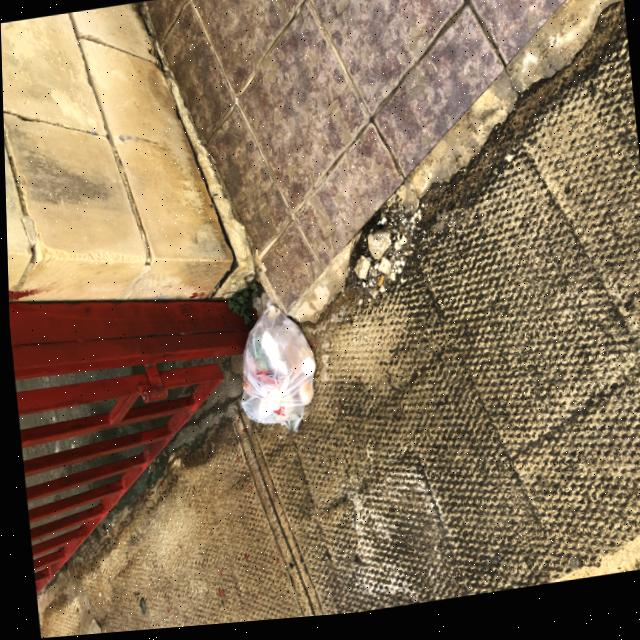Organic Waste -White Bag-: (223, 299, 324, 445)
